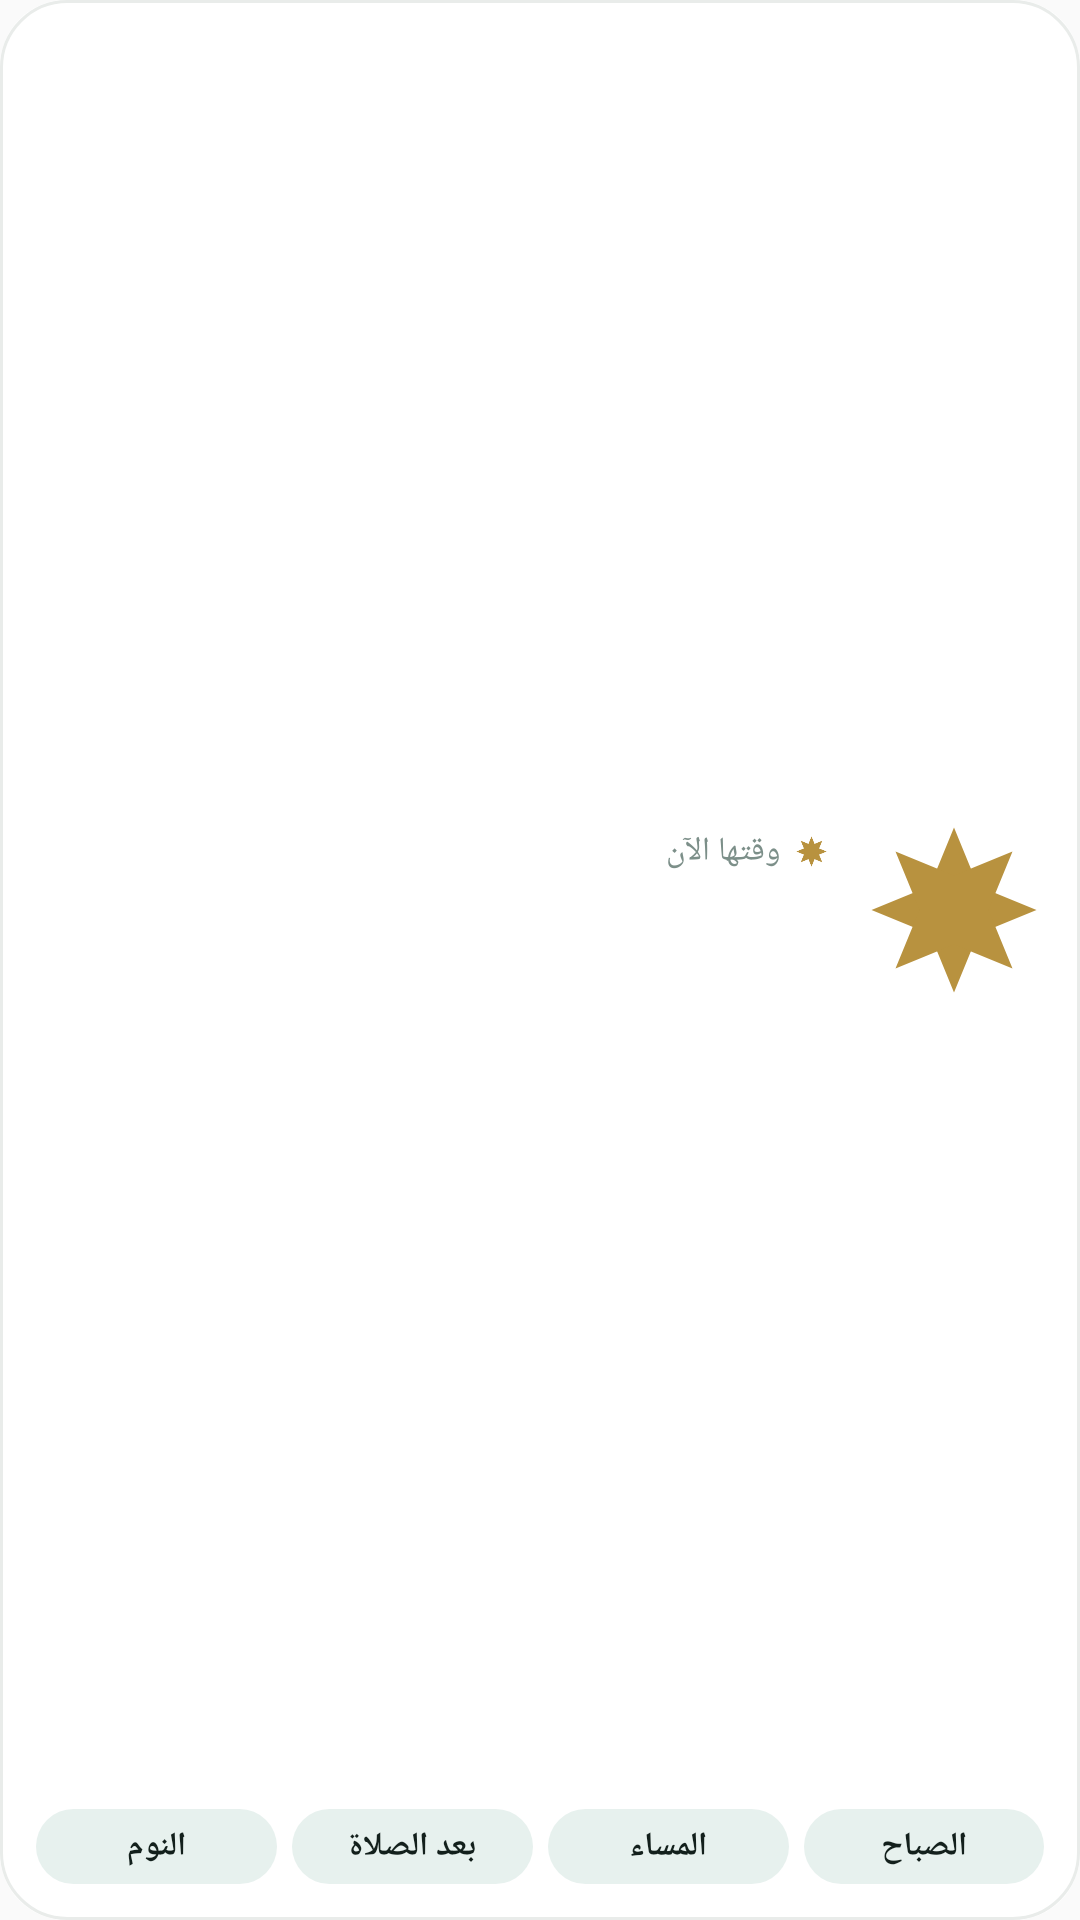

Point at icon controls on the screen. Image size 1080 × 1920, points as point (x, y).
star: point (954, 910), point (811, 852)
